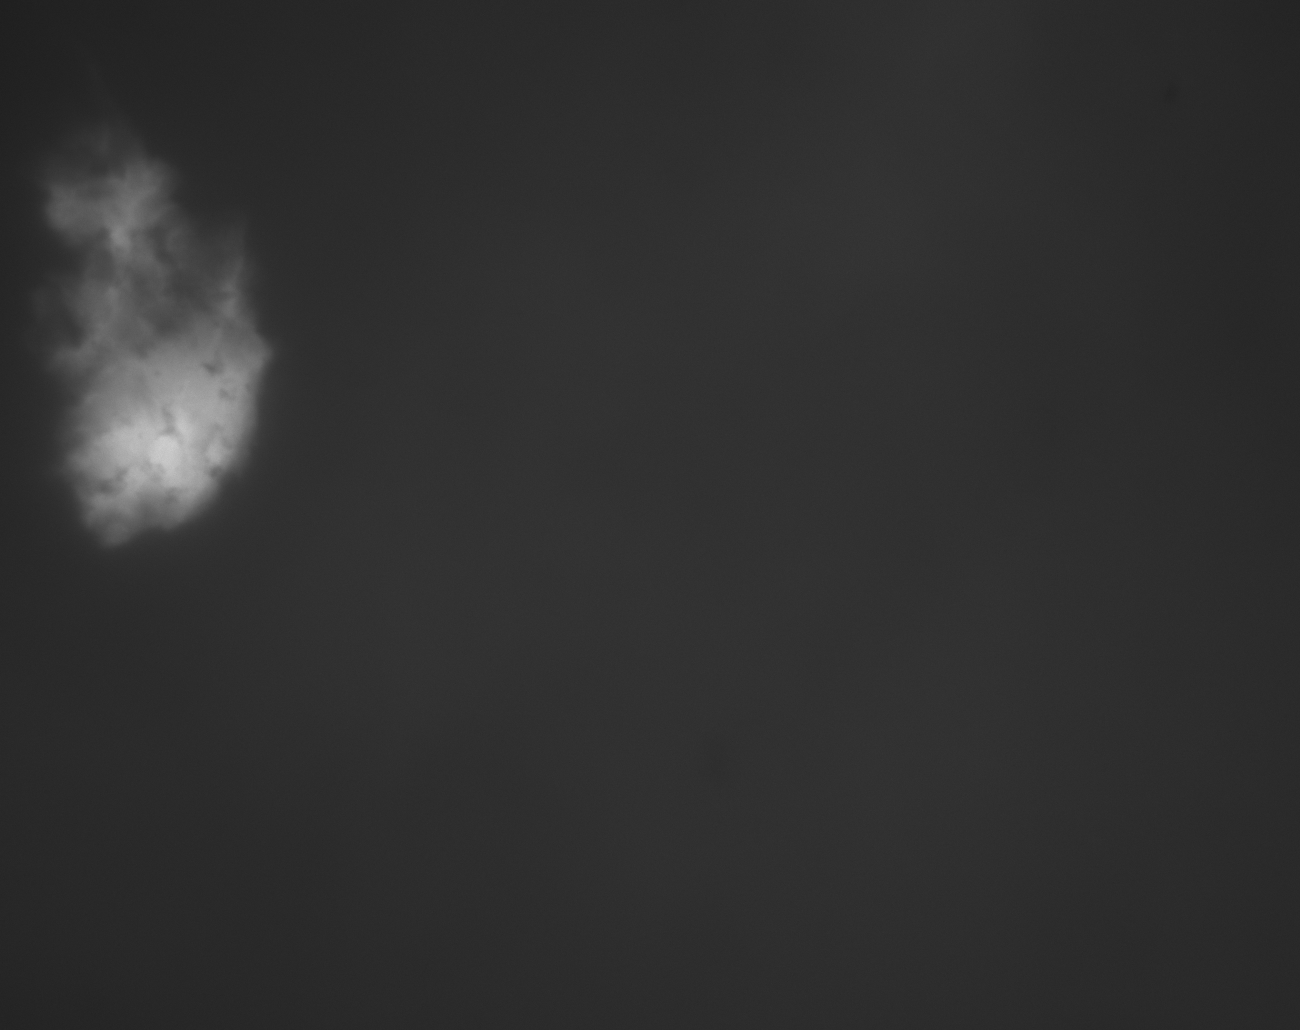Others: (24, 47, 346, 619)
